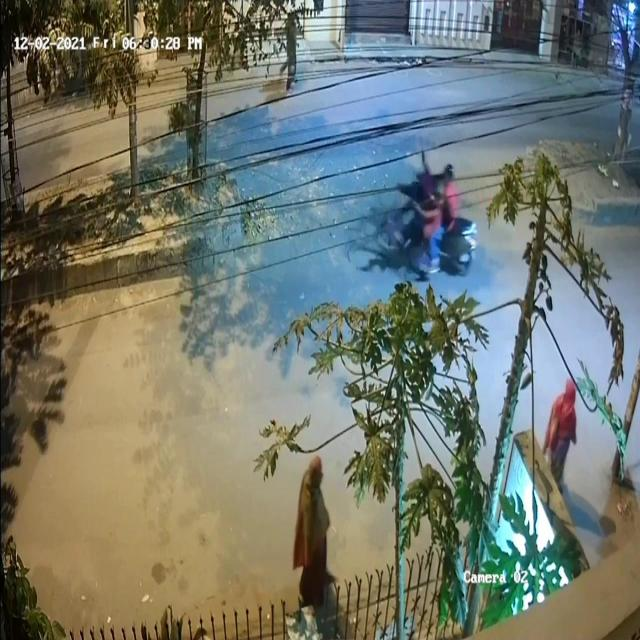accident: (343, 143, 477, 283)
